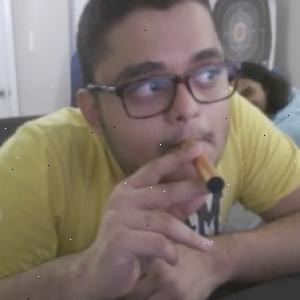Golden-E-Ciggirate: (187, 143, 230, 196)
